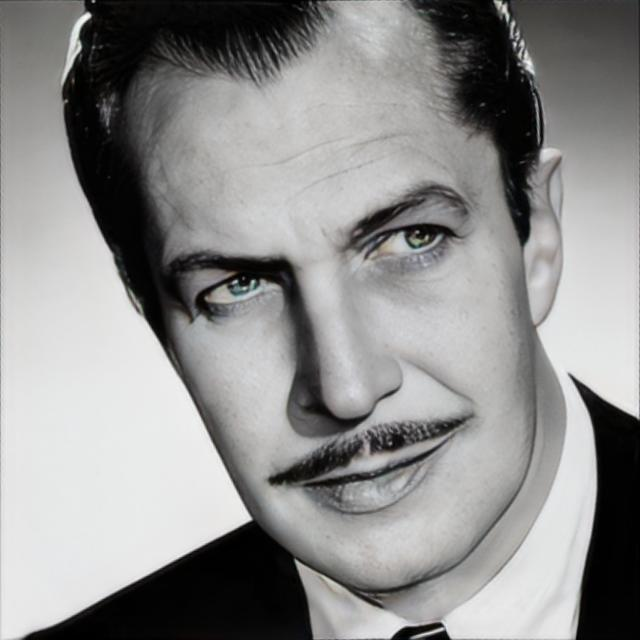content: (122, 0, 540, 595)
